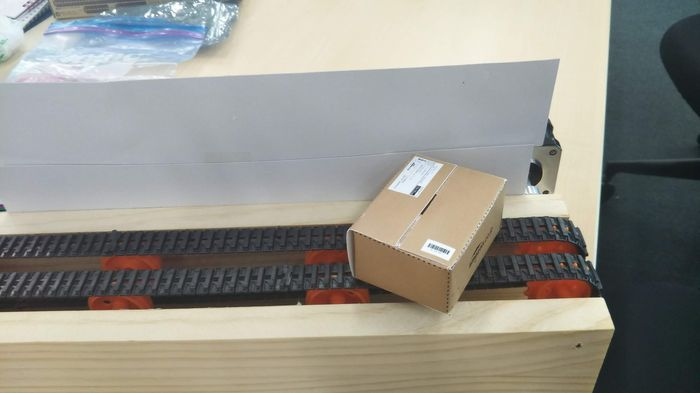box1: (344, 151, 506, 314)
